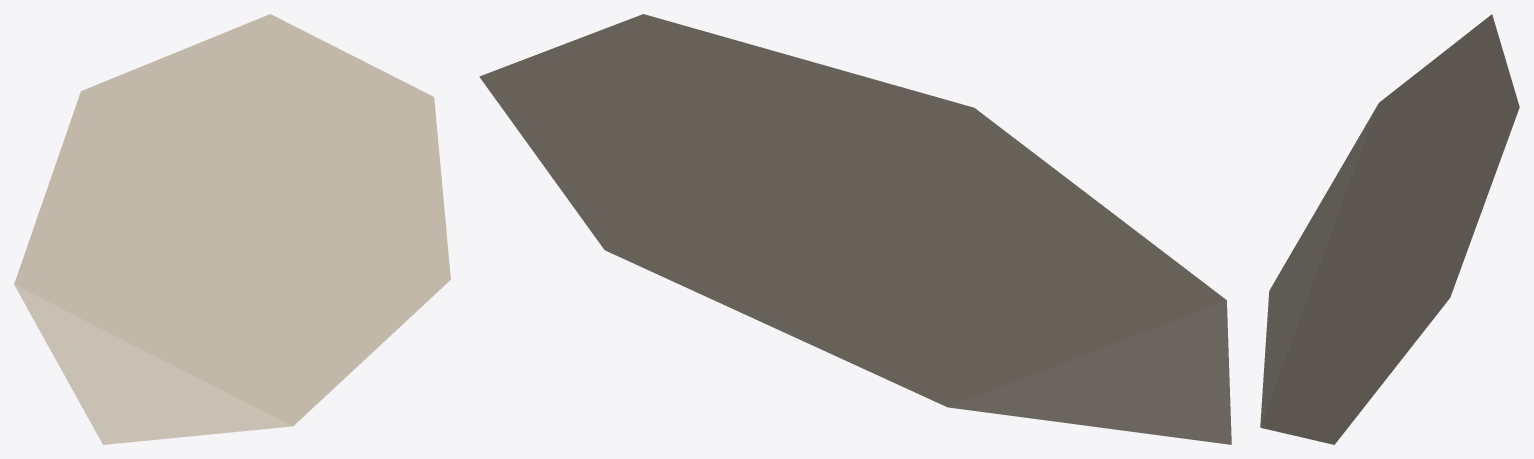
The model's file is SM_MS3_Feed_Eco_04_1.fbx.
3 renders of one model, left to right at view 1: azimuth 30°, elevation 25°; view 2: azimuth 150°, elevation 25°; view 3: azimuth 270°, elevation 25°, orthographic. The views are drawn at different scales.
Visible parts, largest first — view 1: SM_MS3_Feed_Eco_04_1; view 2: SM_MS3_Feed_Eco_04_1; view 3: SM_MS3_Feed_Eco_04_1.
Part boxes in pixels (x1,y1,x2,y2): SM_MS3_Feed_Eco_04_1: (14,14,450,444); SM_MS3_Feed_Eco_04_1: (479,14,1231,444); SM_MS3_Feed_Eco_04_1: (1260,14,1519,444).
Bounding box in the file's own units: 2.79 × 1.17 × 1.85.
